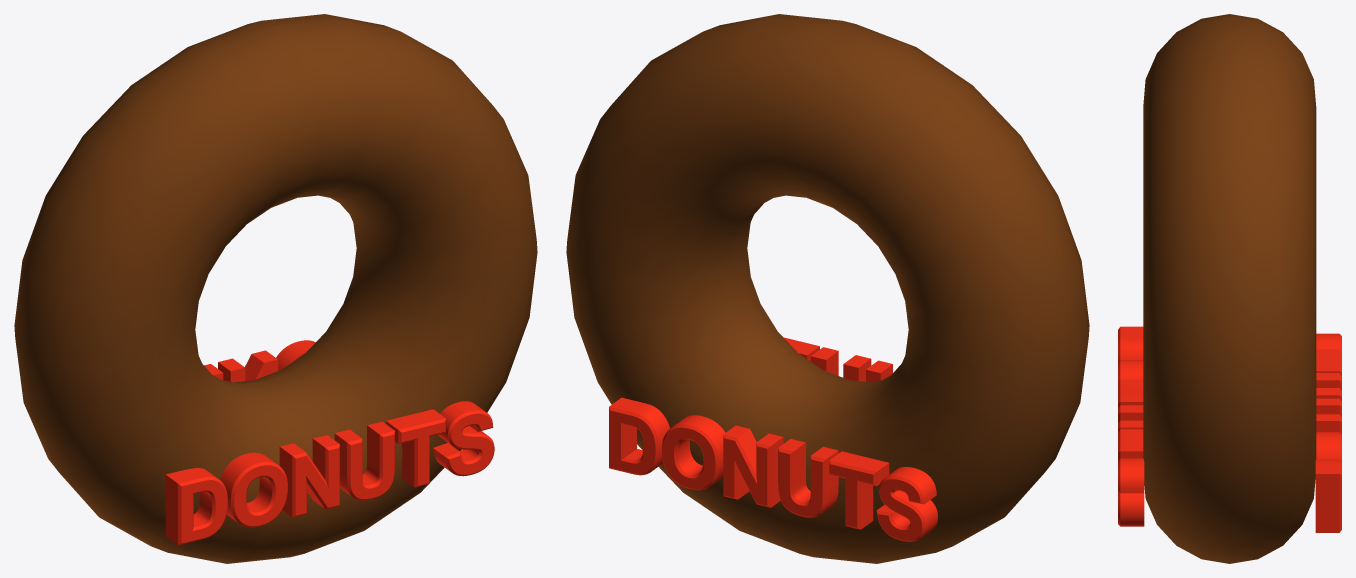
Rendered from Donut_store_brand.FBX.
The picture shows the model from 3 angles, left to right: view 1: azimuth 30°, elevation 25°; view 2: azimuth 150°, elevation 25°; view 3: azimuth 270°, elevation 25°; orthographic projection. The views are drawn at different scales.
Visible parts, largest first — view 1: Torus001, TextPlus002, TextPlus001; view 2: Torus001, TextPlus001, TextPlus002; view 3: Torus001, TextPlus002, TextPlus001.
Part boxes in pixels (bbox=[...]): Torus001: bbox=[14, 14, 537, 563]; TextPlus002: bbox=[165, 401, 494, 545]; TextPlus001: bbox=[204, 340, 315, 382]; Torus001: bbox=[566, 14, 1089, 563]; TextPlus001: bbox=[609, 397, 937, 541]; TextPlus002: bbox=[783, 337, 892, 382]; Torus001: bbox=[1143, 14, 1316, 563]; TextPlus002: bbox=[1118, 326, 1144, 526]; TextPlus001: bbox=[1315, 333, 1341, 532].
Bounding box in the file's own units: 209 × 209 × 84.67.
